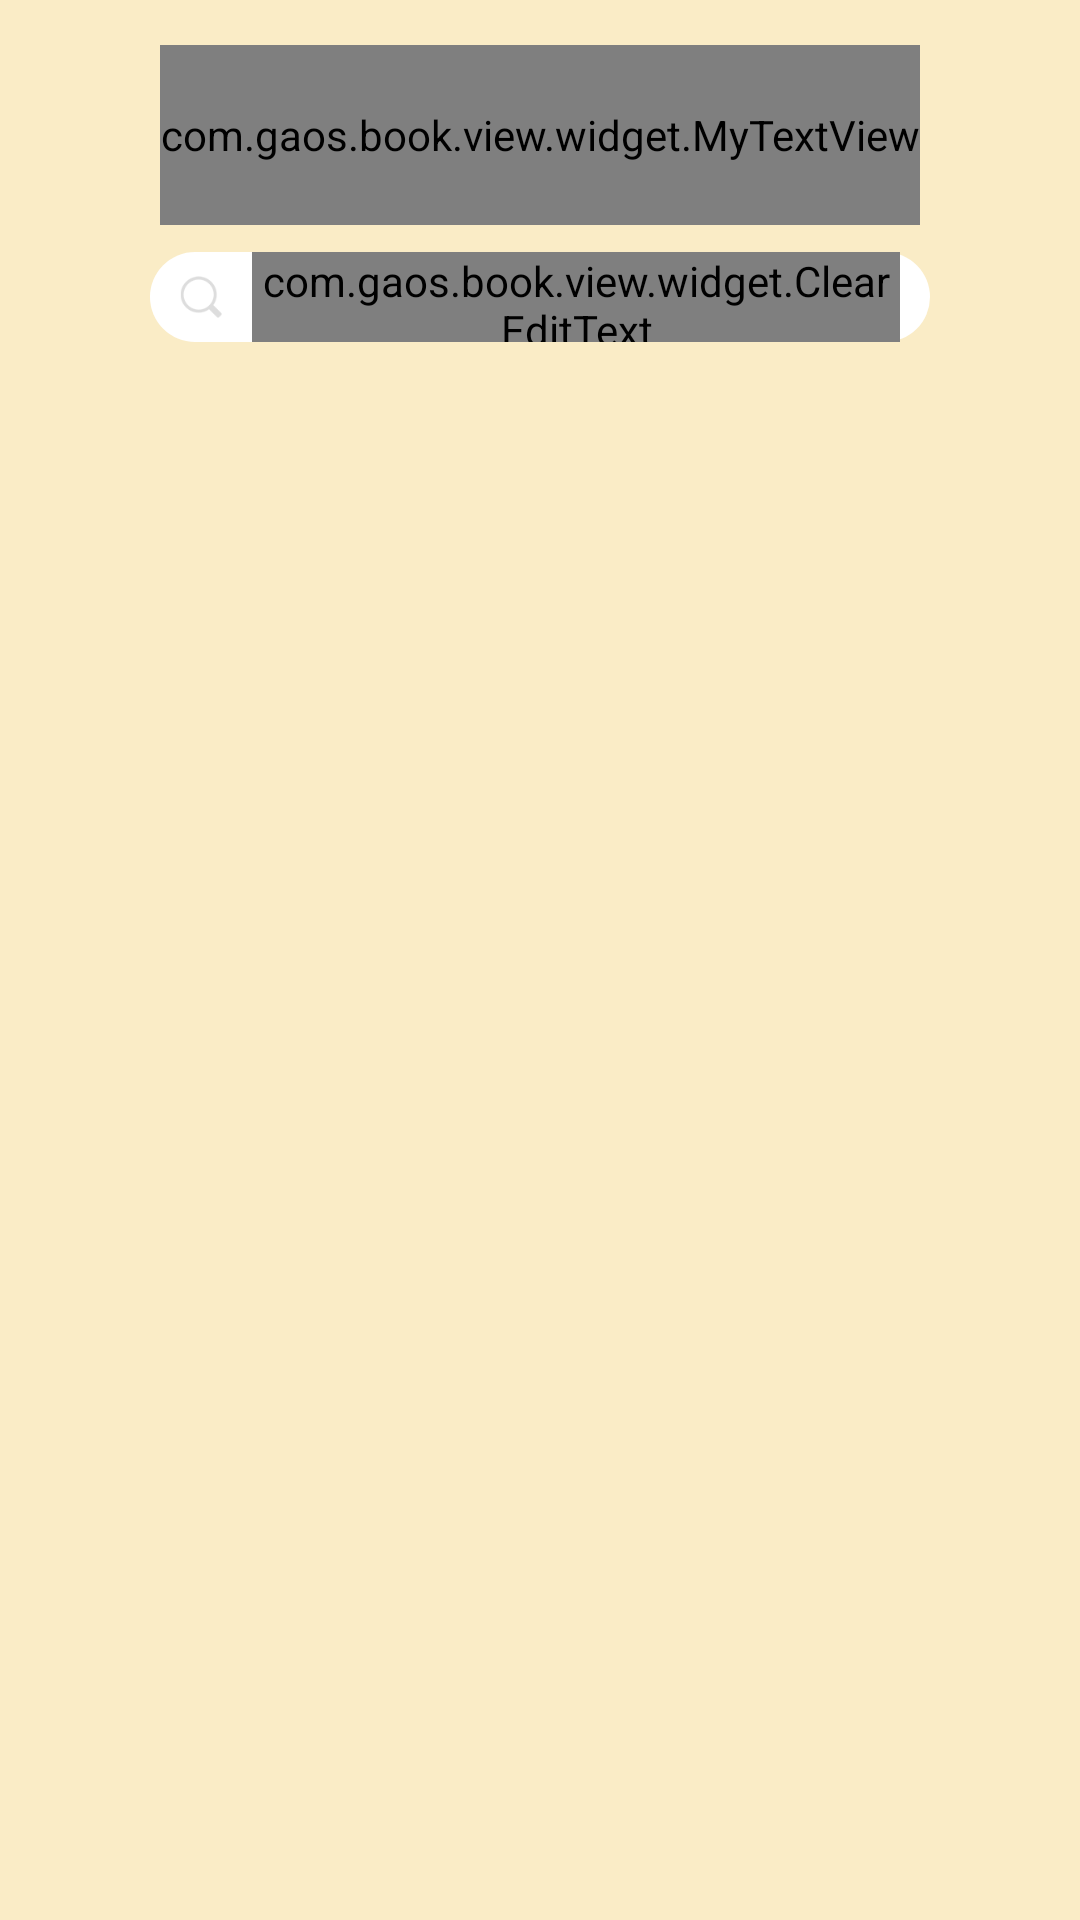

Icons on this 1080w x 1920h Android screen, each with the point to tap as [x,y]:
search: [201,297]
